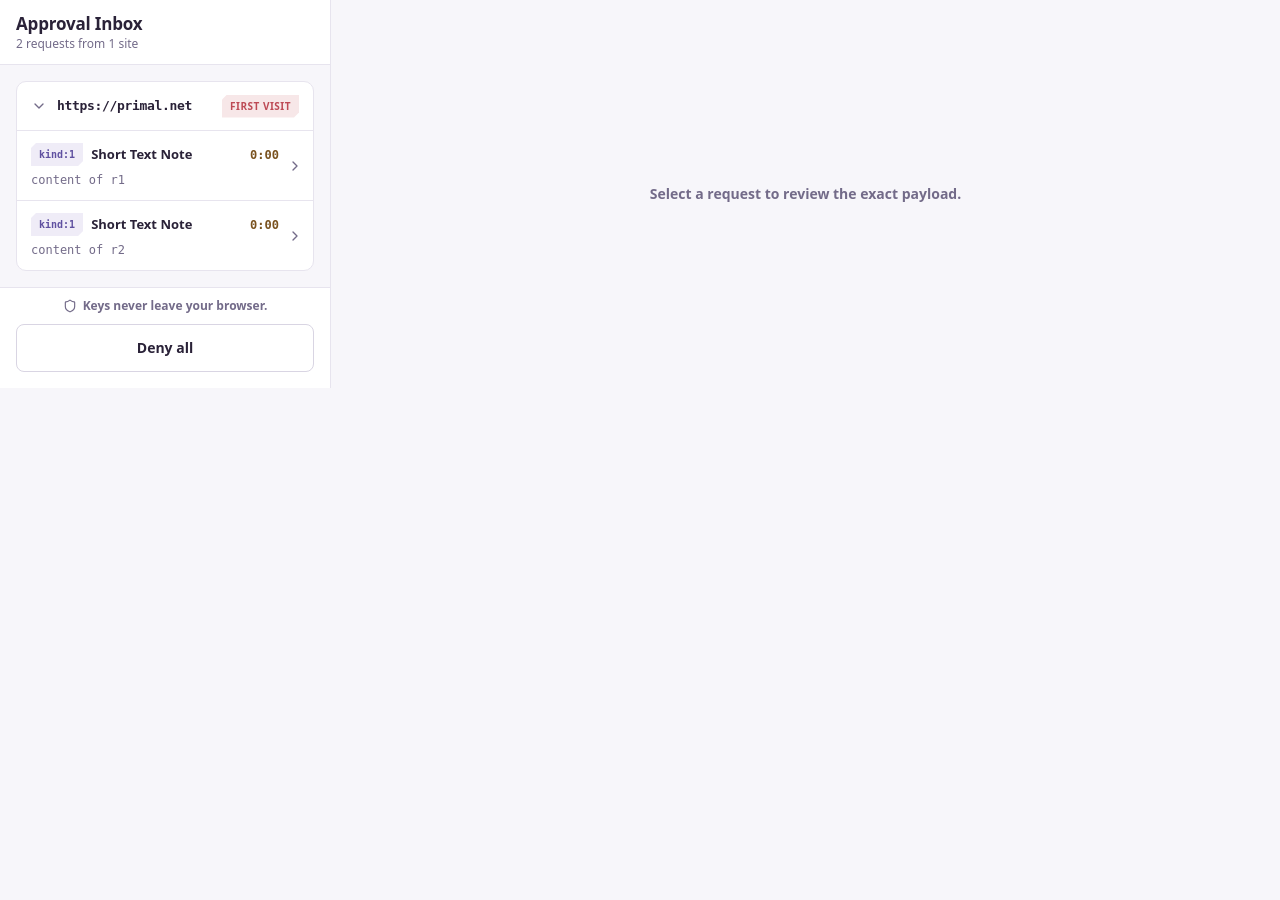
it: ApprovalPrompt live queue › keeps the open request open across a refresh that still contains it
Click the button with test id "approval-request-item" at (165, 165), box [17,130,313,200]
Wait 1200 ms
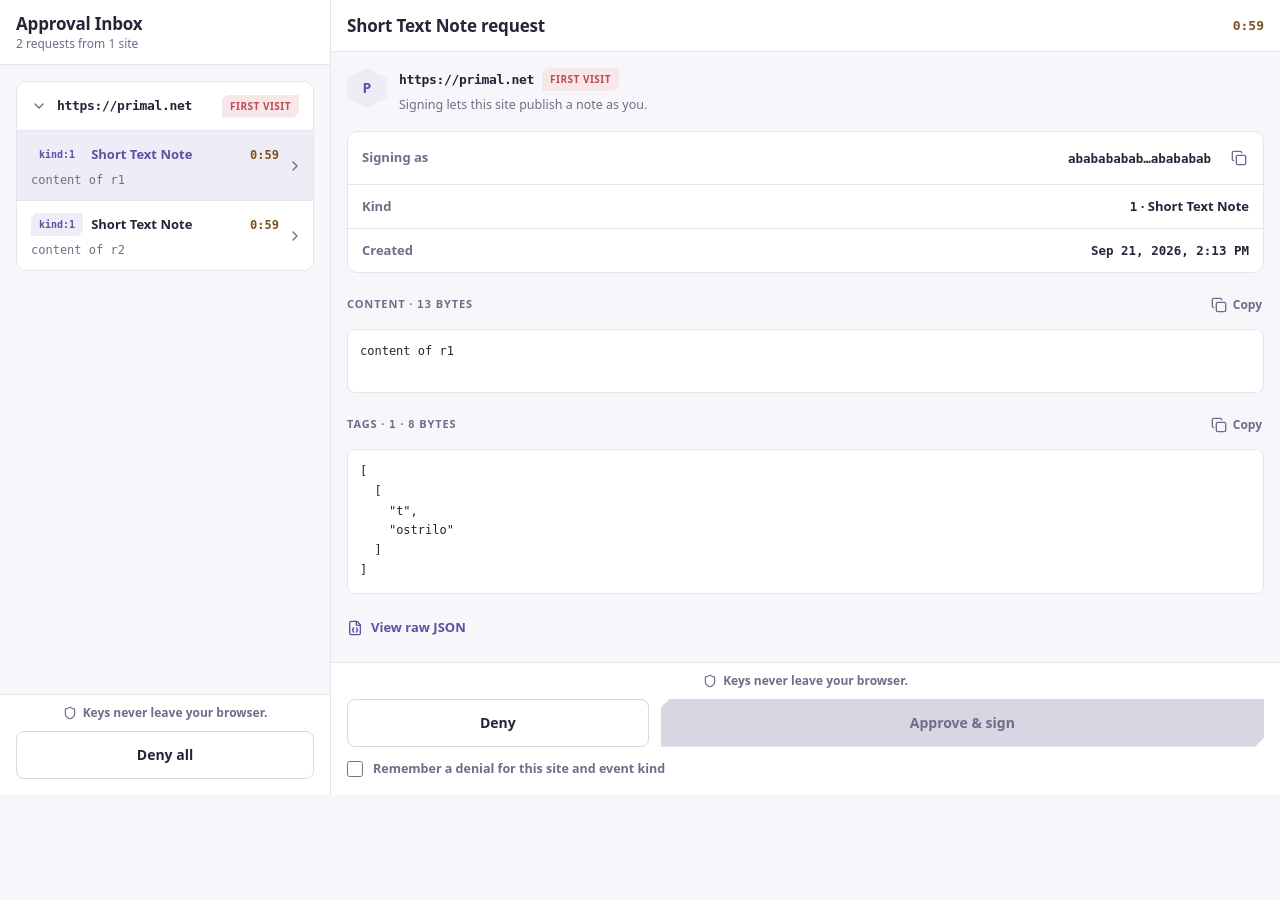
Result: the element with test id "approval-detail" shows "content of r1" at [360,344,454,358]
